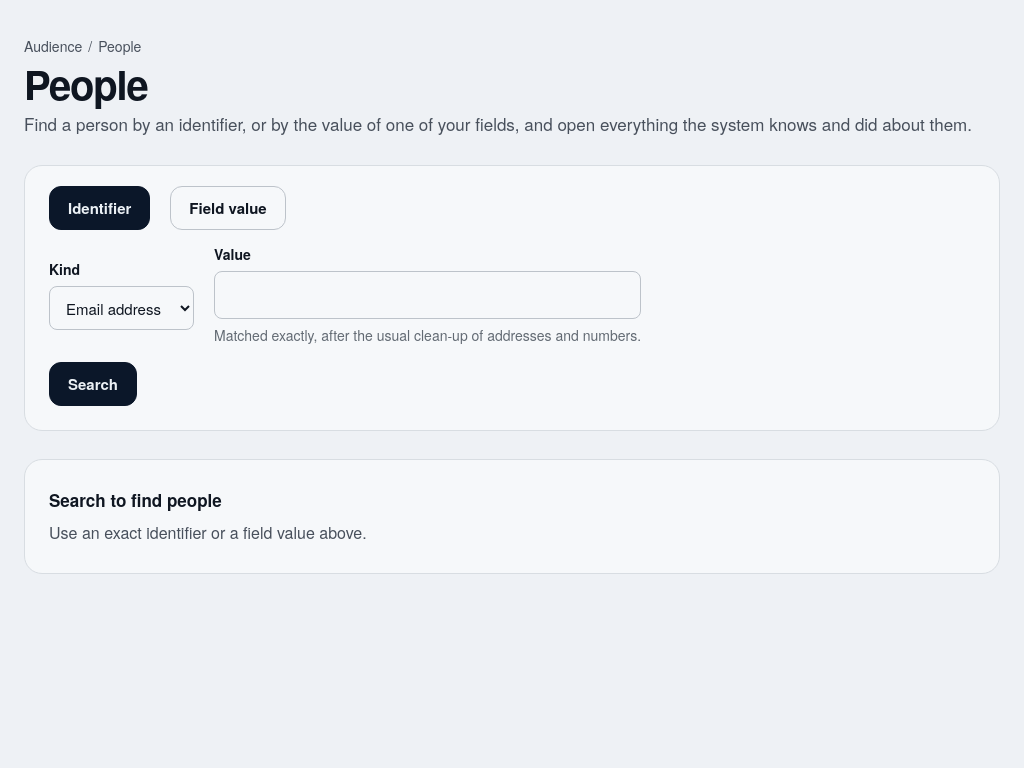
Test case: people search › searches by identifier and lists the people with a link to each profile
The width and height of the screenshot is (1024, 768).
Type "  ada@example.test " into the field labelled "Value" at (428, 295), box 214,271 -> 641,319
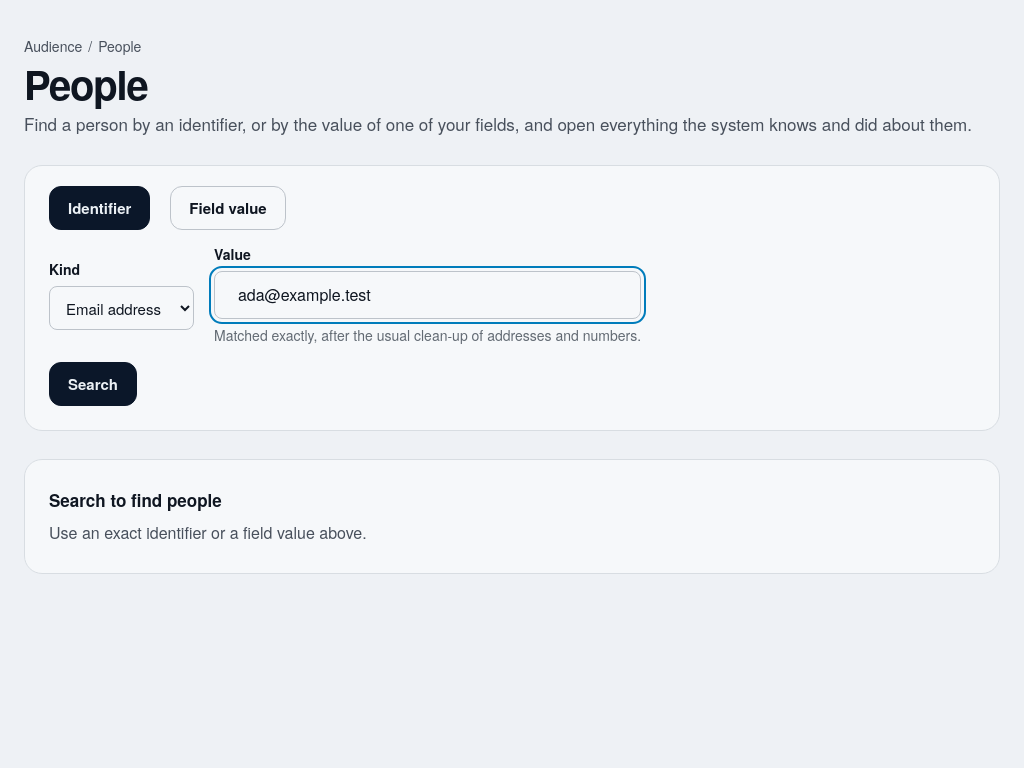
Click the button "Search" at (93, 384), box 49,362 -> 137,406
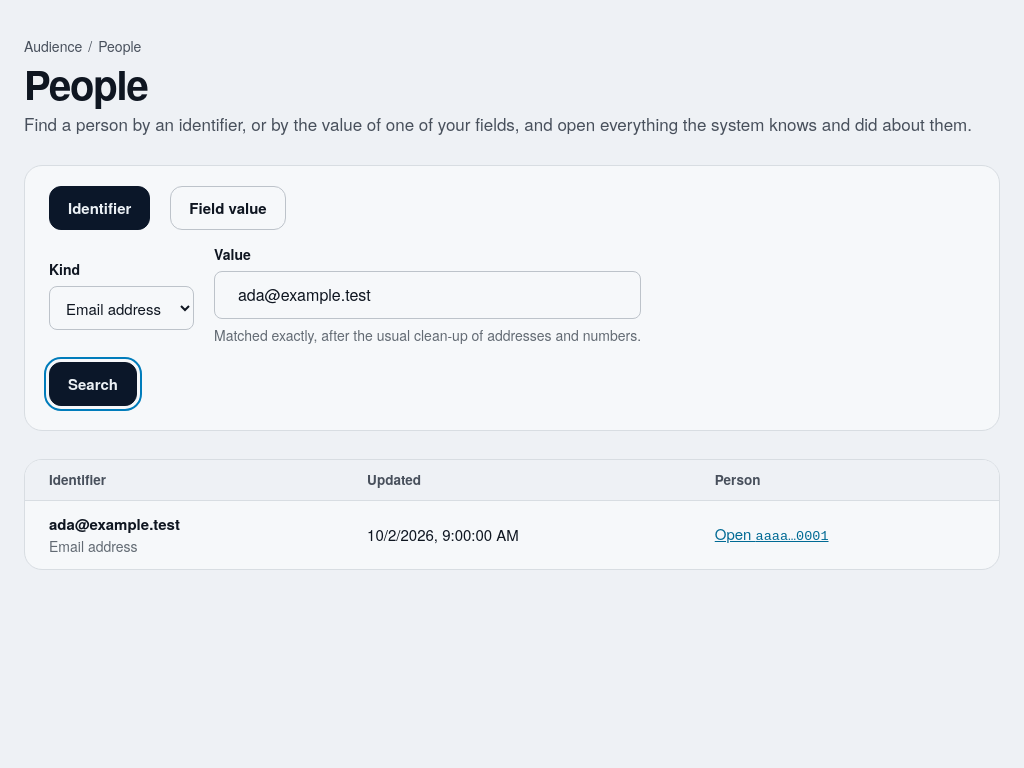
Now the text "ada@example.test" is shown, box 49,513 -> 180,535
Now the text "Email address" is shown, box 49,536 -> 138,556
